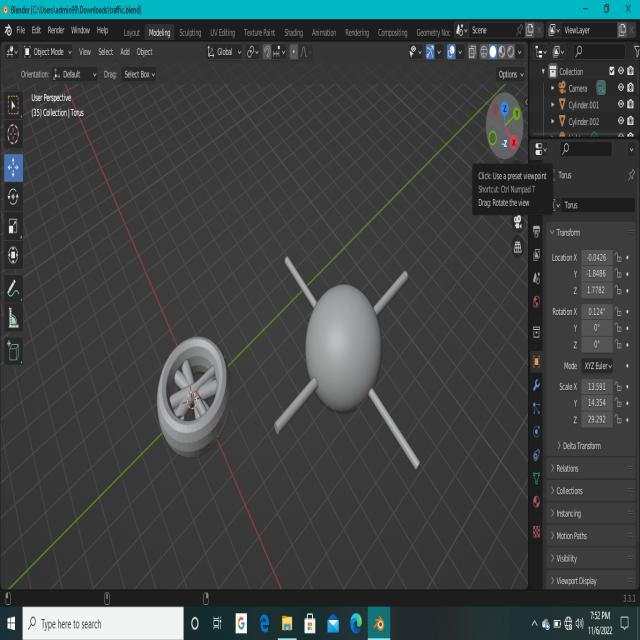person: (254, 235, 444, 498), (141, 315, 239, 470)
